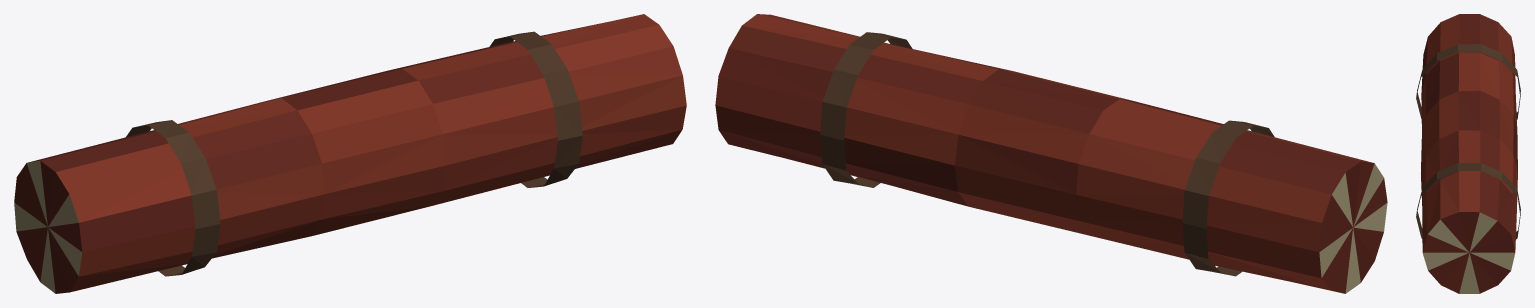
Rendered from bedroll.glb.
The picture shows the model from 3 angles, left to right: view 1: azimuth 30°, elevation 25°; view 2: azimuth 150°, elevation 25°; view 3: azimuth 270°, elevation 25°; orthographic projection. The views are drawn at different scales.
Parts seen in each view (by area): view 1: bedroll; view 2: bedroll; view 3: bedroll.
Boxes of the visible parts, bbox=[...] form: bedroll: bbox=[14, 14, 686, 293]; bedroll: bbox=[715, 14, 1387, 293]; bedroll: bbox=[1416, 14, 1520, 293].
Size of the model in its own units: 1 by 0.2202 by 0.2239.
